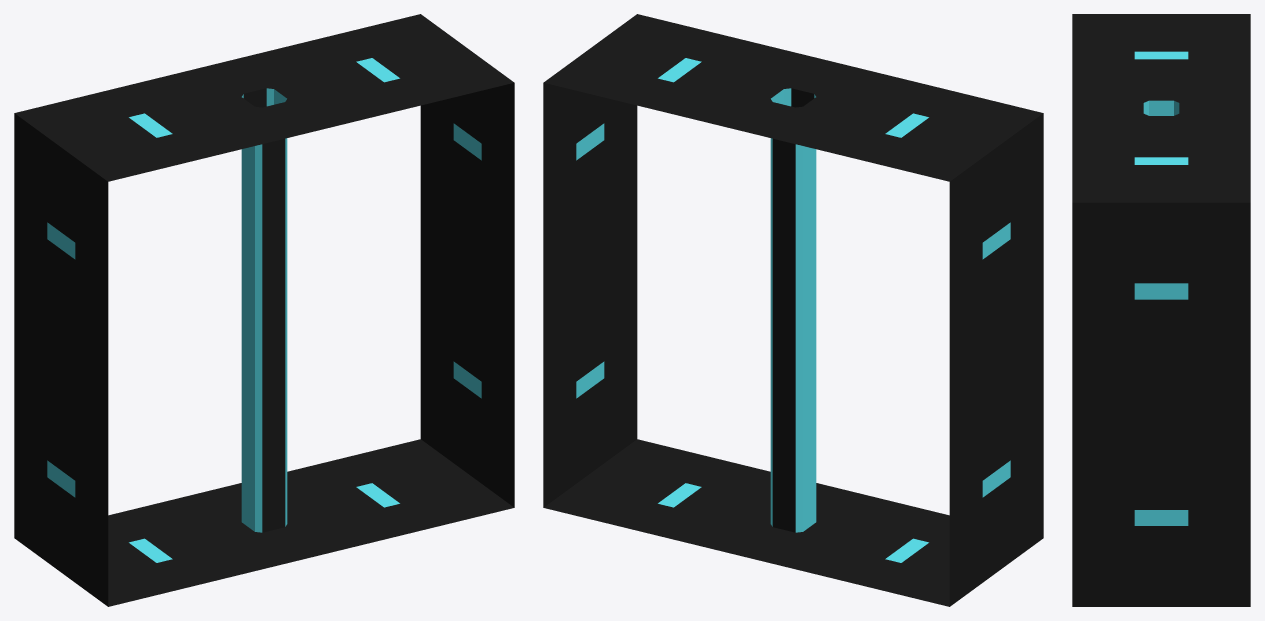
Rendered from middlebar.FBX.
The picture shows the model from 3 angles, left to right: view 1: azimuth 30°, elevation 25°; view 2: azimuth 150°, elevation 25°; view 3: azimuth 270°, elevation 25°; orthographic projection. The views are drawn at different scales.
Parts seen in each view (by area): view 1: middlebar; view 2: middlebar; view 3: middlebar.
Boxes of the visible parts, left/top/right/bottom form: middlebar: left=14, top=14, right=514, bottom=606; middlebar: left=543, top=14, right=1043, bottom=606; middlebar: left=1072, top=14, right=1250, bottom=606.
Size of the model in its own units: 25 by 25 by 10.
